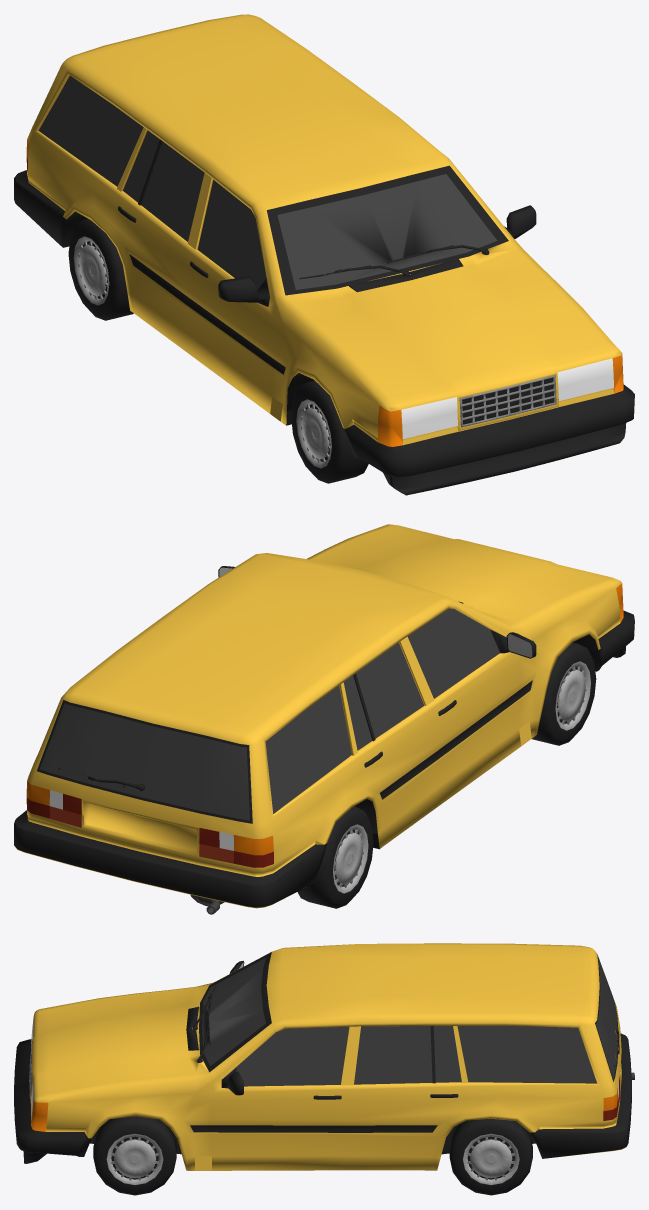
3 renders of one model, top to bottom at view 1: azimuth 30°, elevation 25°; view 2: azimuth 150°, elevation 25°; view 3: azimuth 270°, elevation 25°, orthographic. The views are drawn at different scales.
Visible parts, largest first — view 1: 2_palette_0; view 2: 2_palette_0; view 3: 2_palette_0.
Boxes of the visible parts, bbox=[...] form: 2_palette_0: bbox=[14, 14, 634, 495]; 2_palette_0: bbox=[14, 524, 634, 914]; 2_palette_0: bbox=[14, 943, 634, 1195].
Size of the model in its own units: 2.13 by 1.36 by 4.54.
1 material, 1 textured.
